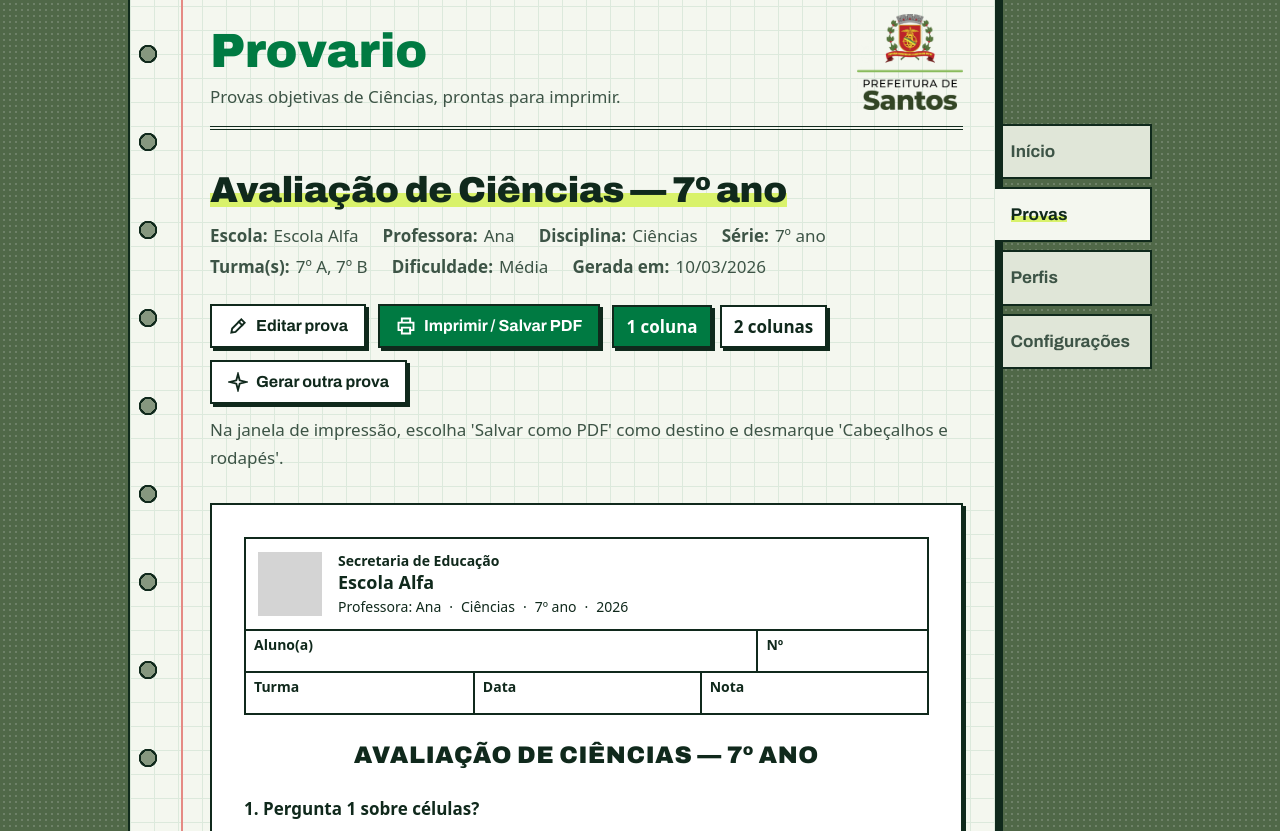
Prova — modo edição › Quando exclui uma questão e confirma, então renumera questões e gabarito
Click the button "Editar prova" at (288, 326), box left=210, top=304, right=366, bottom=348
(page scrolled)
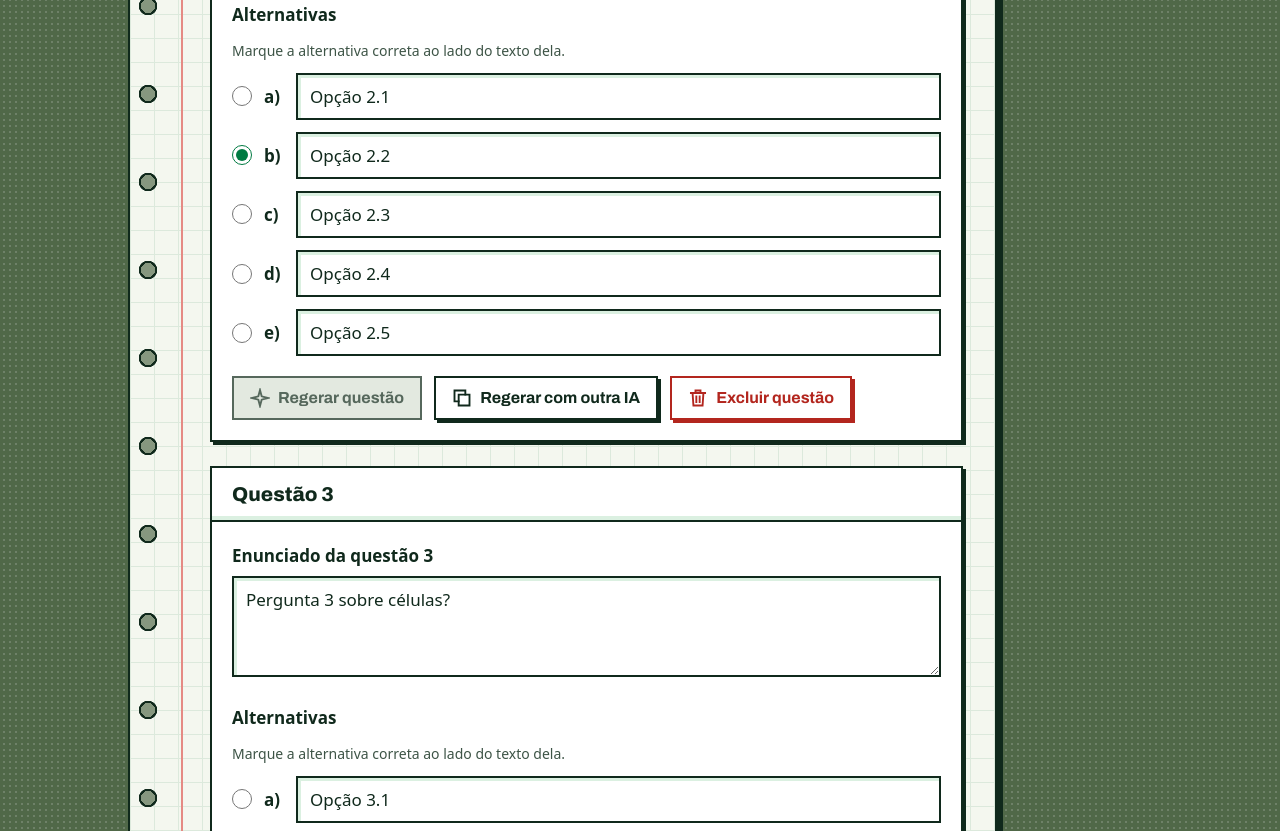
Click the button with aria-label "Excluir questão 2" at (761, 398), box left=670, top=376, right=852, bottom=420
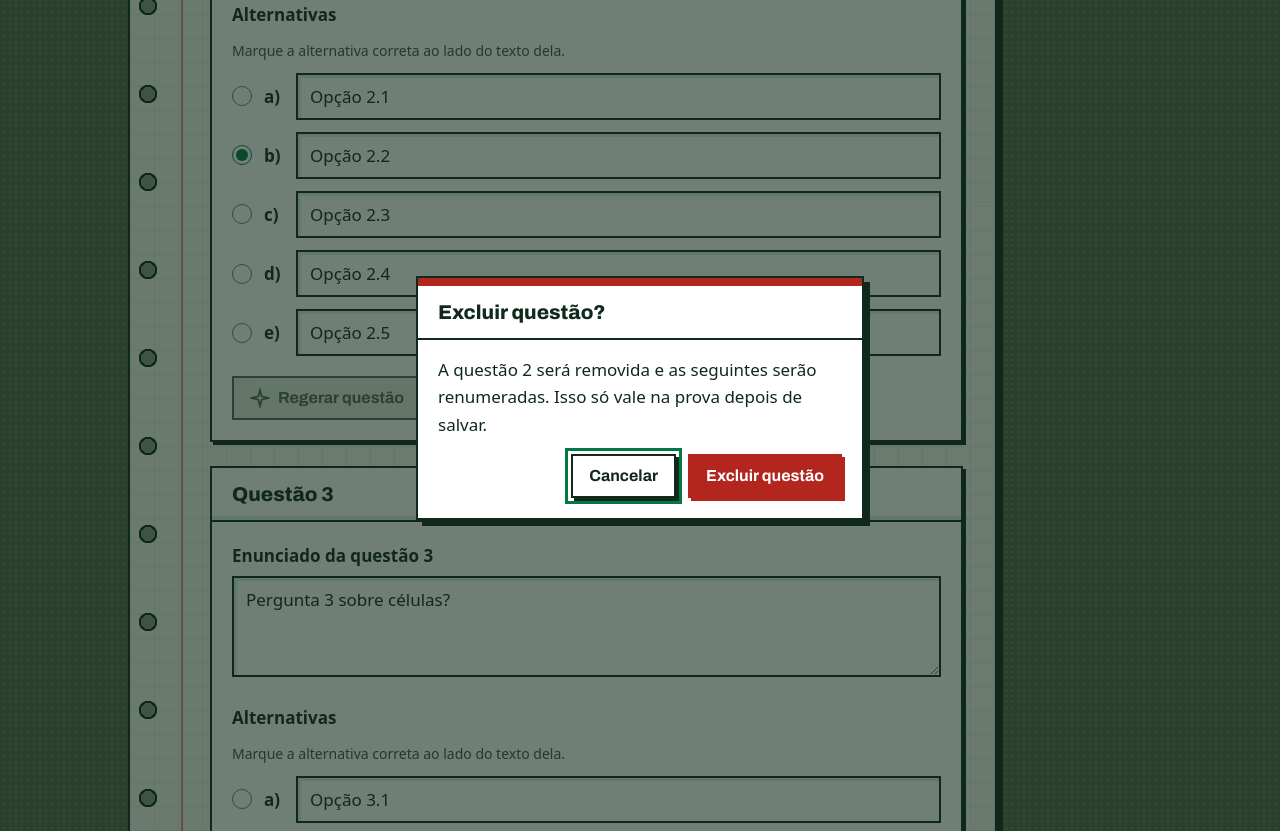
Click the button "Excluir questão" at (765, 476), box left=688, top=454, right=842, bottom=498
(page scrolled)
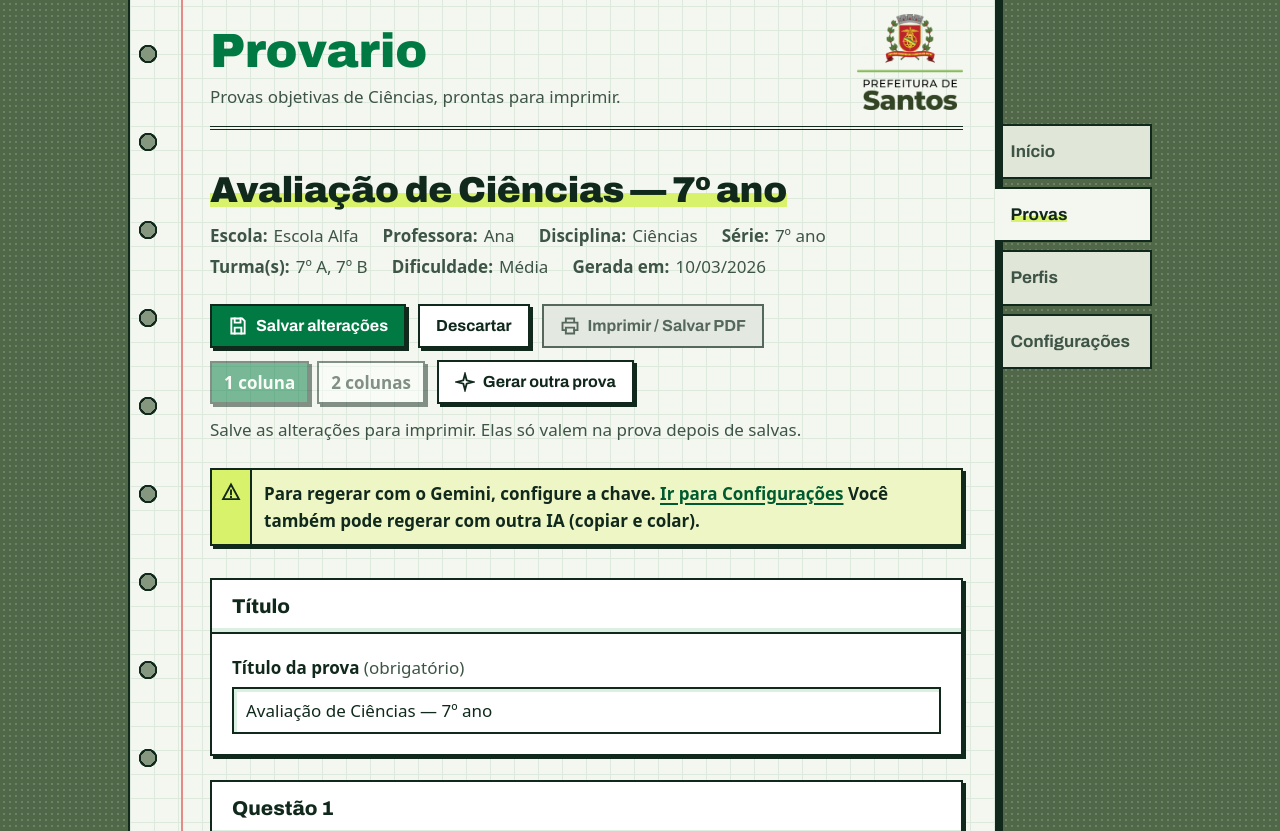
Click the button "Salvar alterações" at (308, 326), box left=210, top=304, right=406, bottom=348
(page scrolled)
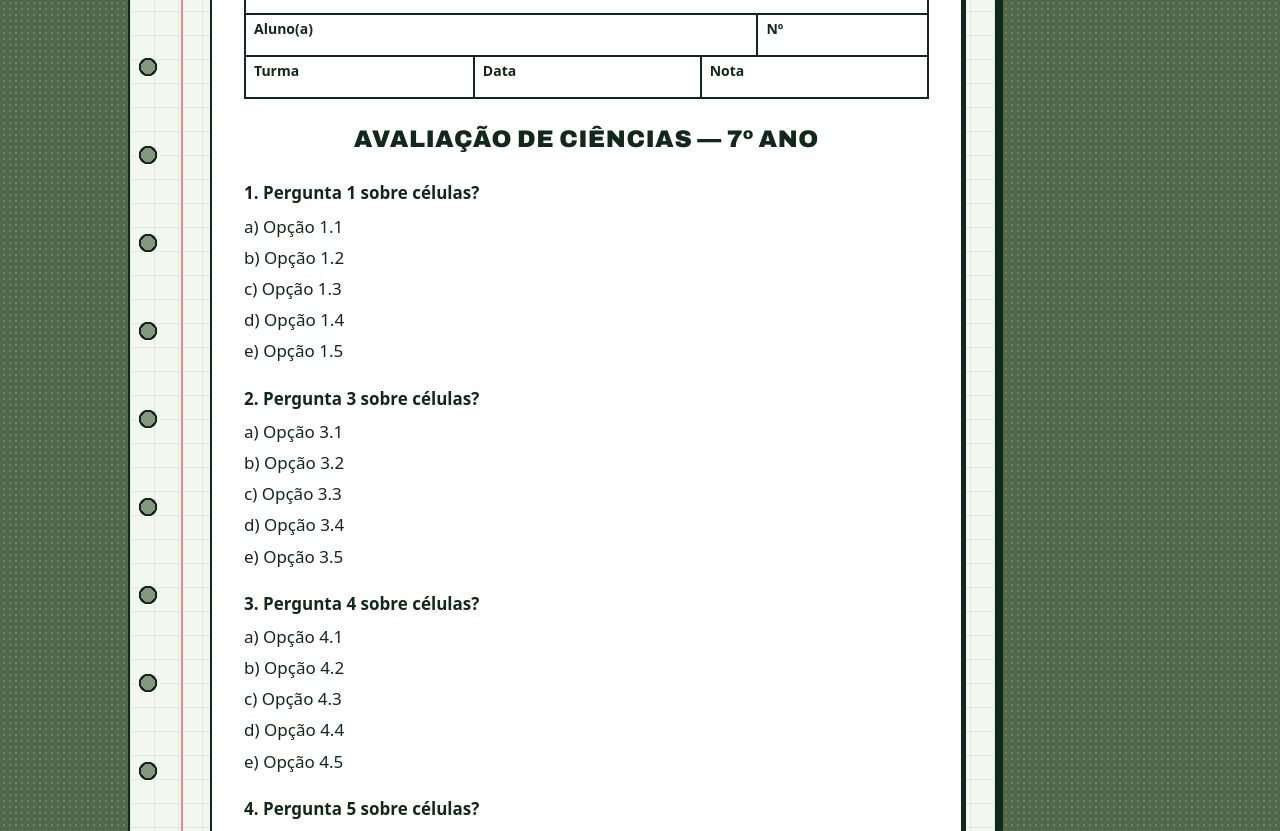
Check: the text "Pergunta 2 sobre" is not shown
Check: the text "2. Pergunta 3 sobre células?" is shown, box left=244, top=387, right=479, bottom=410
